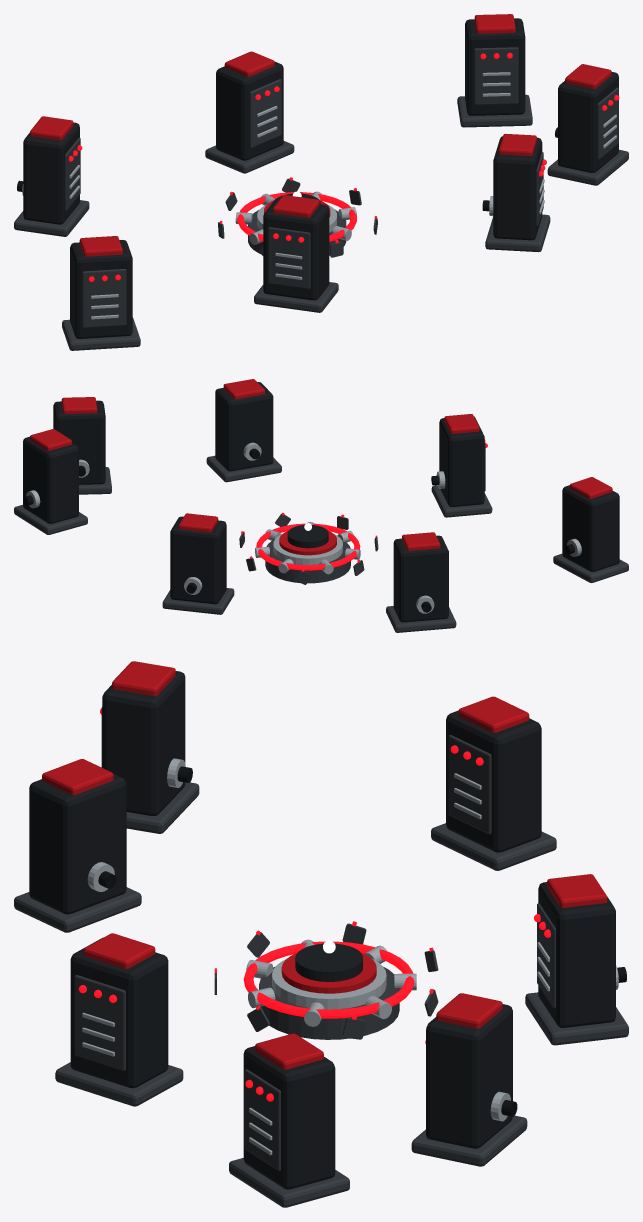
Rendered from distranet-network-evolution.glb.
3 views of the same model, one above another, from view 1: azimuth 30°, elevation 25°; view 2: azimuth 150°, elevation 25°; view 3: azimuth 270°, elevation 25° (orthographic). The views are drawn at different scales.
Parts seen in each view (by area): view 1: legacy_terminal_body_02, legacy_terminal_body_04, legacy_terminal_body_05, legacy_terminal_body_07, legacy_terminal_body_03, legacy_terminal_body_01, legacy_terminal_body_06, legacy_terminal_face_06, legacy_terminal_face_01, legacy_terminal_face_03, legacy_terminal_face_04, legacy_terminal_foot_04 (+17 smaller); view 2: legacy_terminal_body_05, legacy_terminal_body_01, legacy_terminal_body_04, legacy_terminal_body_02, legacy_terminal_body_06, legacy_terminal_body_03, legacy_terminal_body_07, network_core_outer_ring, network_core_base, legacy_terminal_foot_05, legacy_terminal_foot_04, legacy_terminal_foot_01 (+14 smaller); view 3: legacy_terminal_body_03, legacy_terminal_body_06, legacy_terminal_body_01, legacy_terminal_body_07, legacy_terminal_body_02, legacy_terminal_body_04, legacy_terminal_body_05, legacy_terminal_face_05, legacy_terminal_face_02, network_core_outer_ring, network_core_base, legacy_terminal_face_07 (+18 smaller).
Boxes of the visible parts, left/top/right/bottom form: legacy_terminal_body_02: left=23, top=122, right=79, bottom=224; legacy_terminal_body_04: left=216, top=61, right=283, bottom=160; legacy_terminal_body_05: left=493, top=136, right=542, bottom=240; legacy_terminal_body_07: left=558, top=72, right=618, bottom=172; legacy_terminal_body_03: left=263, top=198, right=329, bottom=300; legacy_terminal_body_01: left=70, top=240, right=132, bottom=338; legacy_terminal_body_06: left=465, top=18, right=525, bottom=115; legacy_terminal_face_06: left=474, top=47, right=518, bottom=104; legacy_terminal_face_01: left=82, top=269, right=126, bottom=327; legacy_terminal_face_03: left=268, top=227, right=310, bottom=289; legacy_terminal_face_04: left=249, top=79, right=281, bottom=148; legacy_terminal_foot_04: left=205, top=141, right=294, bottom=173; legacy_terminal_body_05: left=215, top=382, right=273, bottom=471; legacy_terminal_body_01: left=562, top=485, right=619, bottom=571; legacy_terminal_body_04: left=170, top=516, right=226, bottom=604; legacy_terminal_body_02: left=393, top=535, right=448, bottom=622; legacy_terminal_body_06: left=23, top=436, right=78, bottom=523; legacy_terminal_body_03: left=439, top=416, right=484, bottom=506; legacy_terminal_body_07: left=53, top=400, right=105, bottom=484; network_core_outer_ring: left=256, top=523, right=360, bottom=570; network_core_base: left=265, top=540, right=350, bottom=583; legacy_terminal_foot_05: left=206, top=455, right=281, bottom=482; legacy_terminal_foot_04: left=162, top=588, right=234, bottom=614; legacy_terminal_foot_01: left=553, top=553, right=628, bottom=582; legacy_terminal_body_03: left=29, top=773, right=126, bottom=914; legacy_terminal_body_06: left=426, top=1004, right=512, bottom=1148; legacy_terminal_body_01: left=102, top=671, right=185, bottom=815; legacy_terminal_body_07: left=243, top=1046, right=335, bottom=1189; legacy_terminal_body_02: left=446, top=710, right=541, bottom=852; legacy_terminal_body_04: left=538, top=882, right=615, bottom=1027; legacy_terminal_body_05: left=70, top=937, right=168, bottom=1088; legacy_terminal_face_05: left=74, top=975, right=125, bottom=1070; legacy_terminal_face_02: left=448, top=735, right=491, bottom=834; network_core_outer_ring: left=243, top=941, right=414, bottom=1018; network_core_base: left=259, top=967, right=399, bottom=1039; legacy_terminal_face_07: left=244, top=1069, right=280, bottom=1170.
Bounding box in the file's own units: 11.18 × 2.14 × 6.8.
